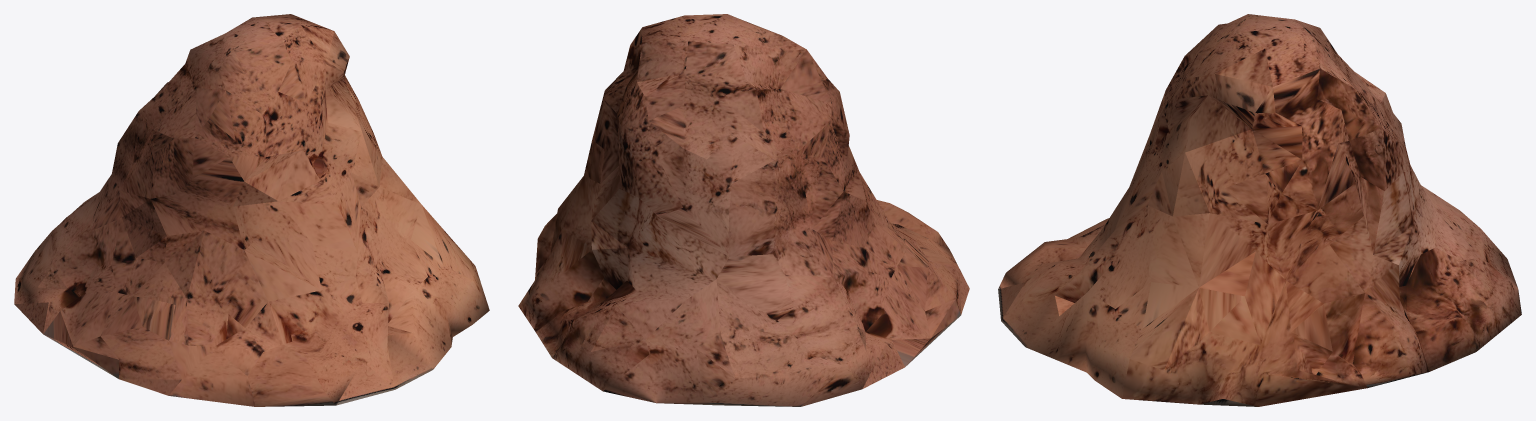
File: FixedMound.fbx
3 renders of one model, left to right at view 1: azimuth 30°, elevation 25°; view 2: azimuth 150°, elevation 25°; view 3: azimuth 270°, elevation 25°, orthographic. The views are drawn at different scales.
Visible parts, largest first — view 1: tripo_node_936ae08e; view 2: tripo_node_936ae08e; view 3: tripo_node_936ae08e.
Part boxes in pixels (x1,y1,x2,y2): tripo_node_936ae08e: (14, 14, 489, 406); tripo_node_936ae08e: (518, 14, 969, 406); tripo_node_936ae08e: (998, 14, 1521, 406).
Size of the model in its own units: 88.42 by 61.58 by 100.
Materials: 1 (1 with a texture image).
